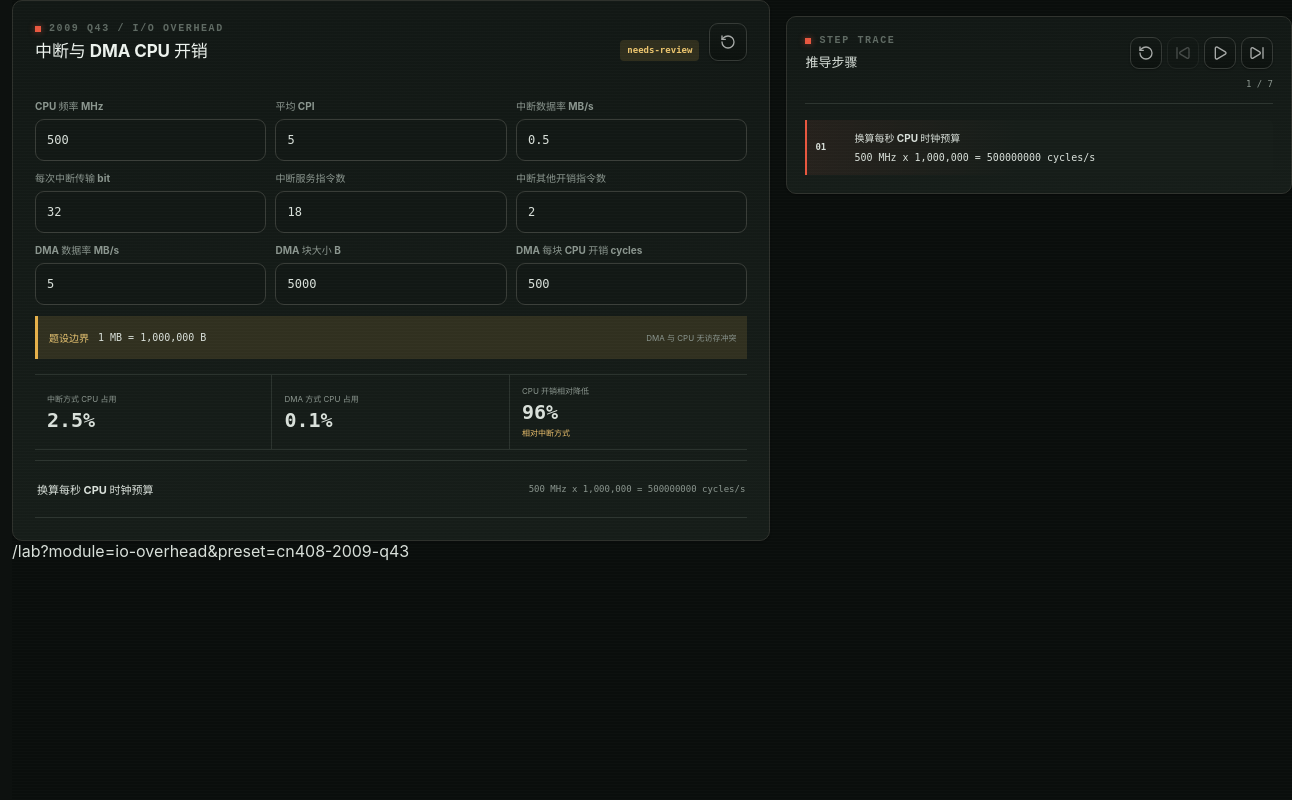
Test case: IoOverheadLabPanel › keeps the state card synchronized with step, play, and reset controls
Check: the element named "当前推导事件" shows "换算每秒 CPU 时钟预算", box [37,483,154,497]
Click the button named "下一步" at (1257, 53), box [1241,37,1273,69]
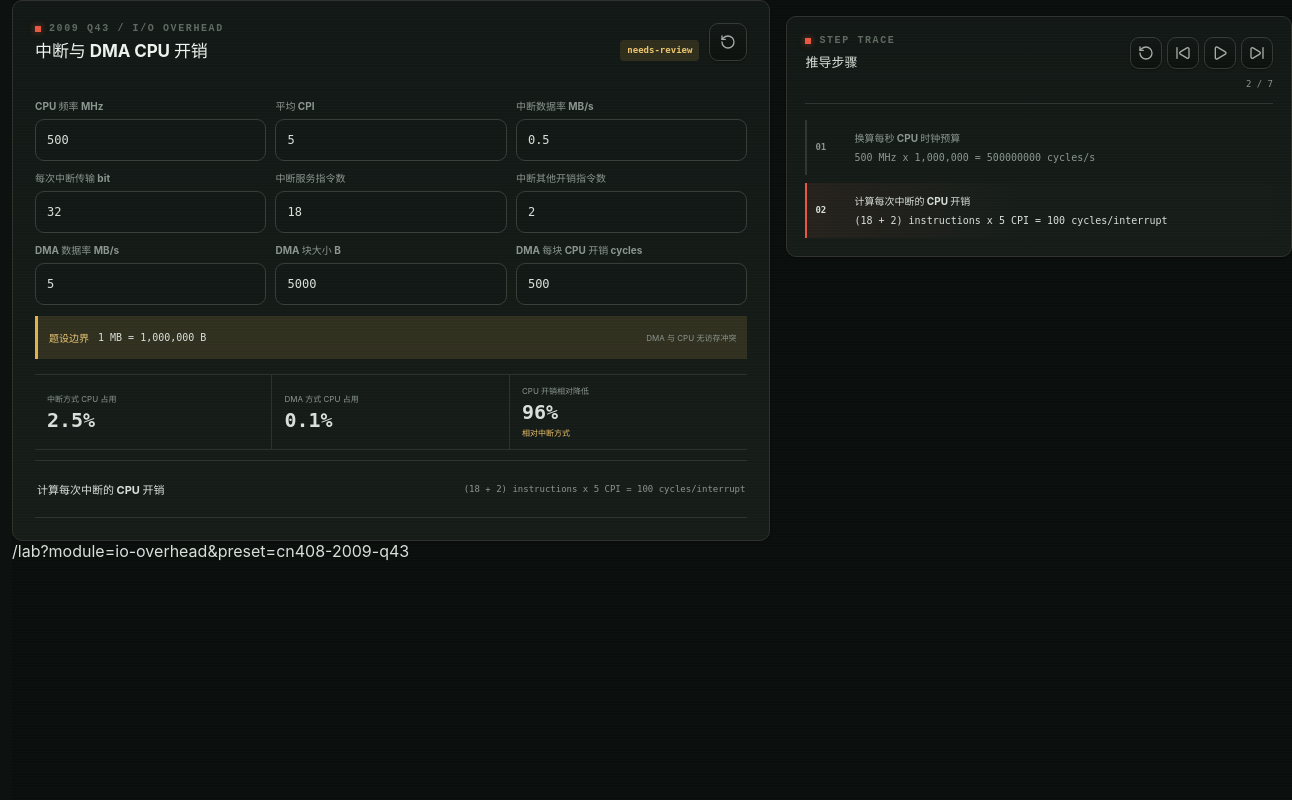
Check: the element named "当前推导事件" shows "计算每次中断的 CPU 开销", box [37,483,164,497]
Click the button named "播放步骤" at (1220, 53), box [1204,37,1236,69]
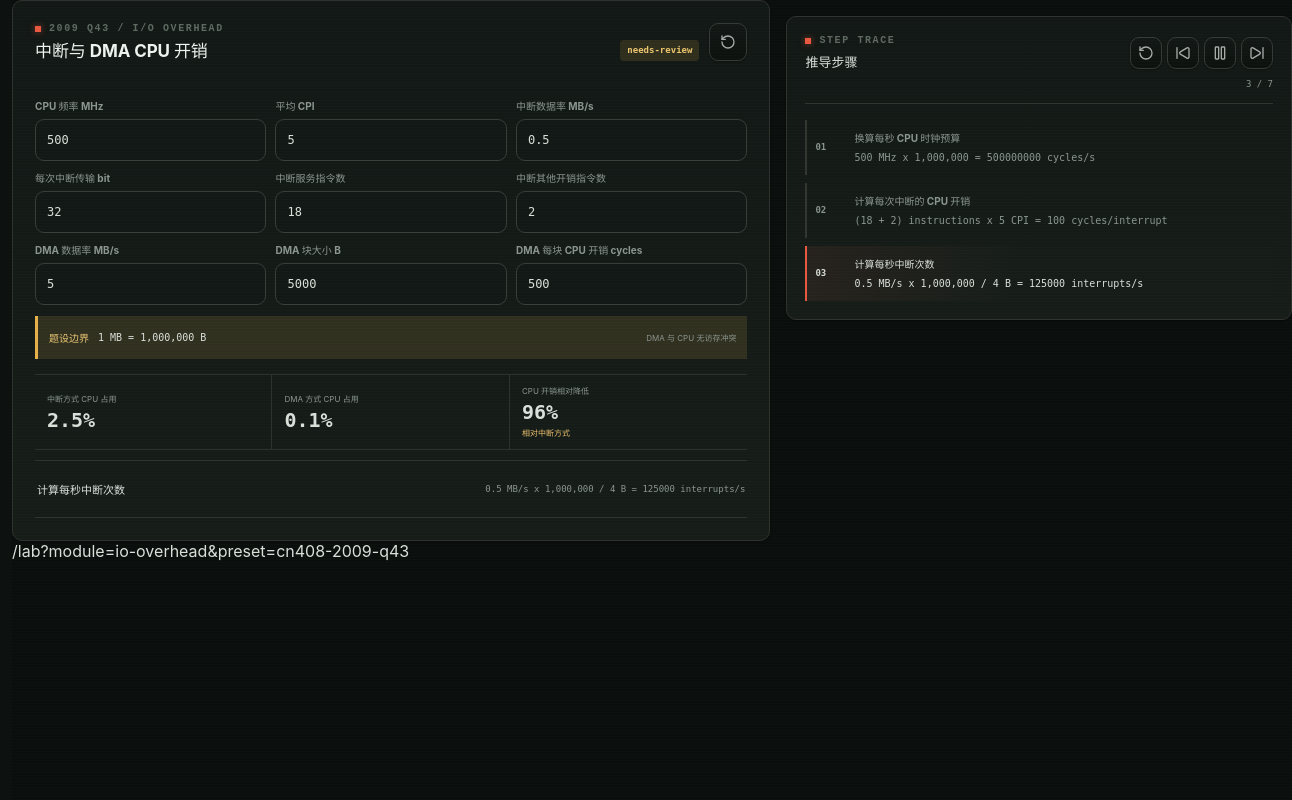
Check: the element named "当前推导事件" does not show "计算每次中断的 CPU 开销", box [35,460,747,518]
Click the button named "暂停步骤" at (1220, 53), box [1204,37,1236,69]
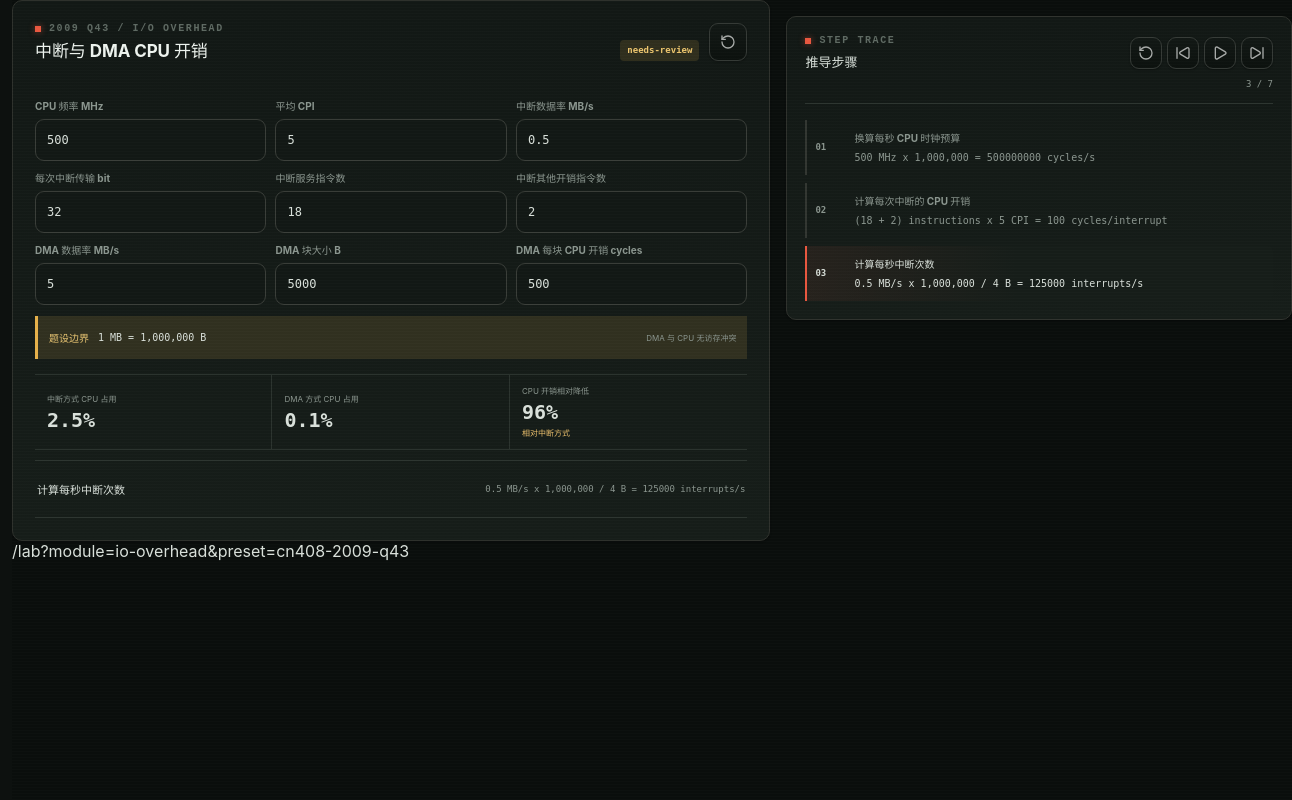
Click the button named "复位步骤" at (1146, 53), box [1130,37,1162,69]
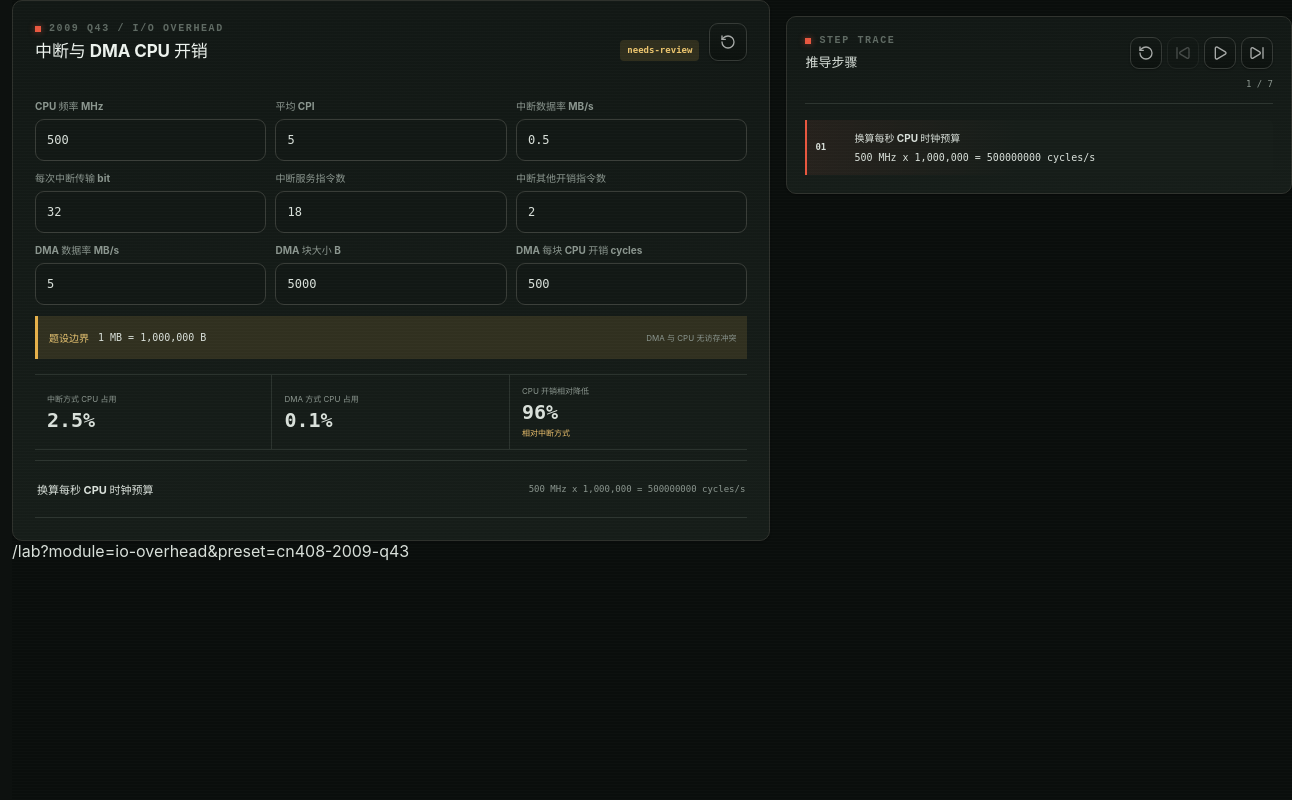
Check: the element named "当前推导事件" shows "换算每秒 CPU 时钟预算", box [37,483,154,497]
